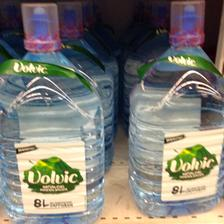Wasser: (1, 0, 104, 224), (124, 0, 223, 216)
